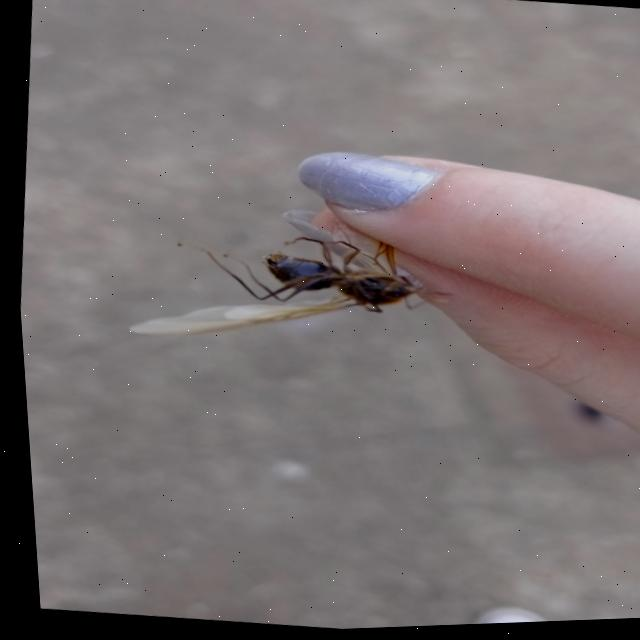Alive-Male-Alate: (116, 190, 461, 368)
